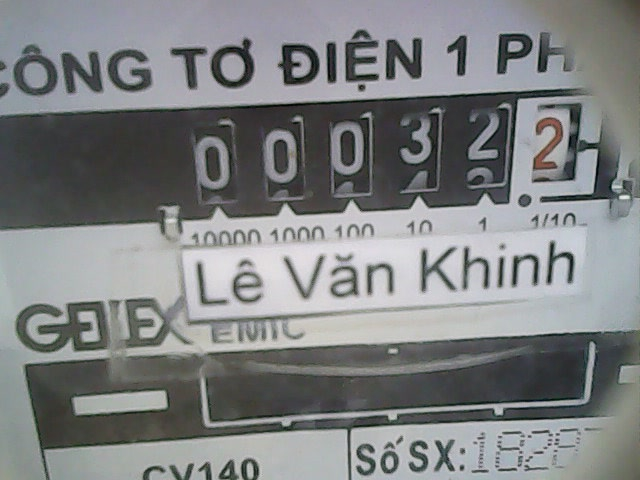phy_plate: (182, 85, 608, 218)
